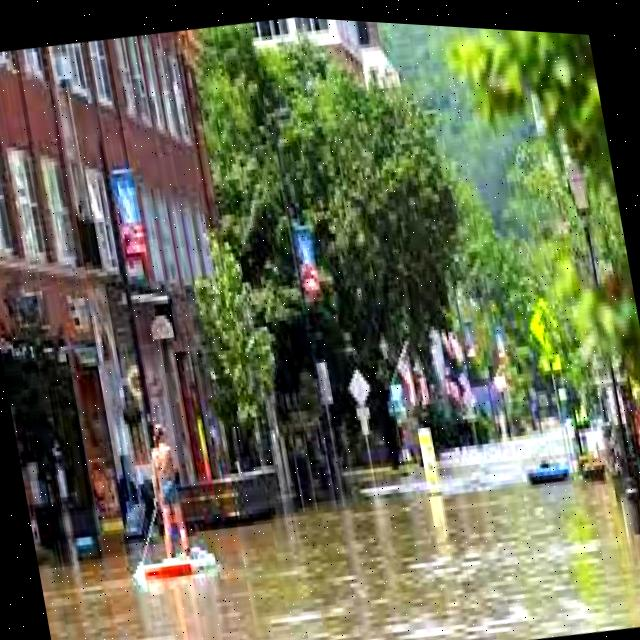civilian: (130, 414, 216, 570)
